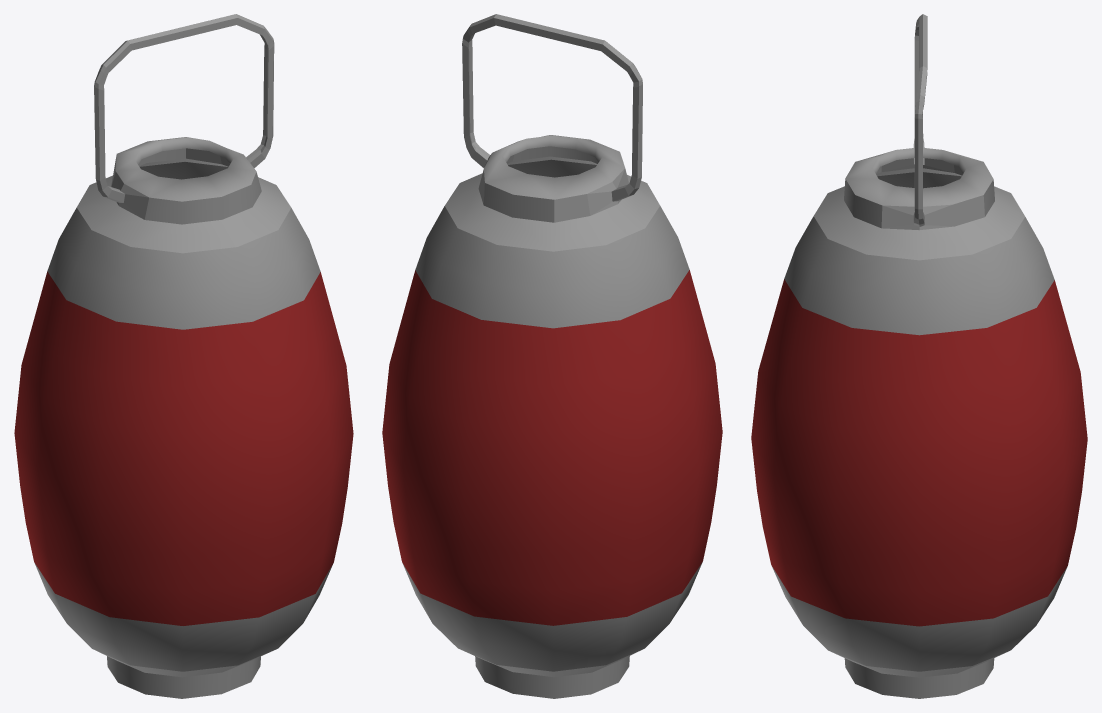
File: Lantern_3 alt.FBX
3 views of the same model, side by side, from view 1: azimuth 30°, elevation 25°; view 2: azimuth 150°, elevation 25°; view 3: azimuth 270°, elevation 25° (orthographic). The views are drawn at different scales.
Parts seen in each view (by area): view 1: Capsule003; view 2: Capsule003; view 3: Capsule003.
Boxes of the visible parts, left/top/right/bottom form: Capsule003: left=14, top=14, right=353, bottom=698; Capsule003: left=382, top=14, right=722, bottom=698; Capsule003: left=751, top=14, right=1087, bottom=698.
Bounding box in the file's own units: 33.62 × 71.47 × 34.17.
